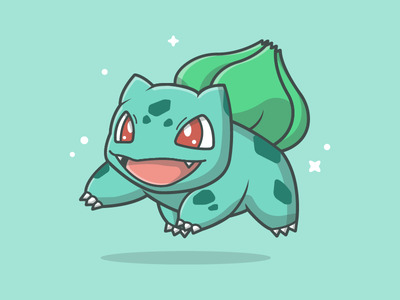001-bulbasaur: (76, 31, 322, 251)
